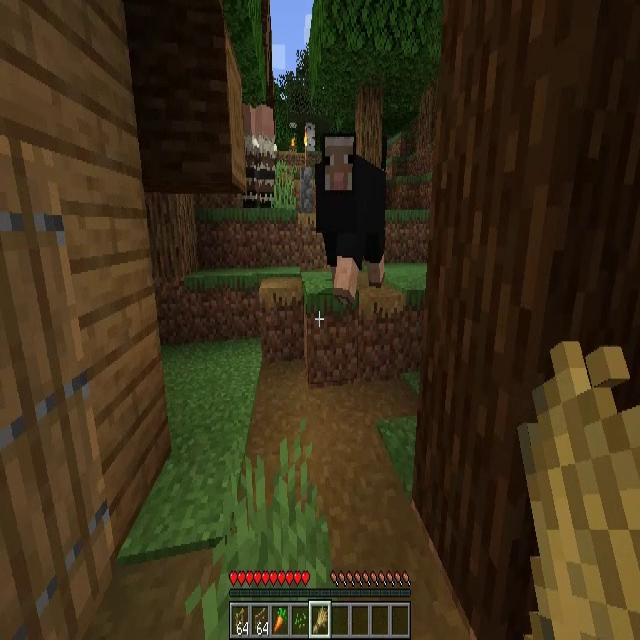people: (258, 106, 278, 206), (242, 103, 258, 207)
sheep: (315, 138, 386, 298)
